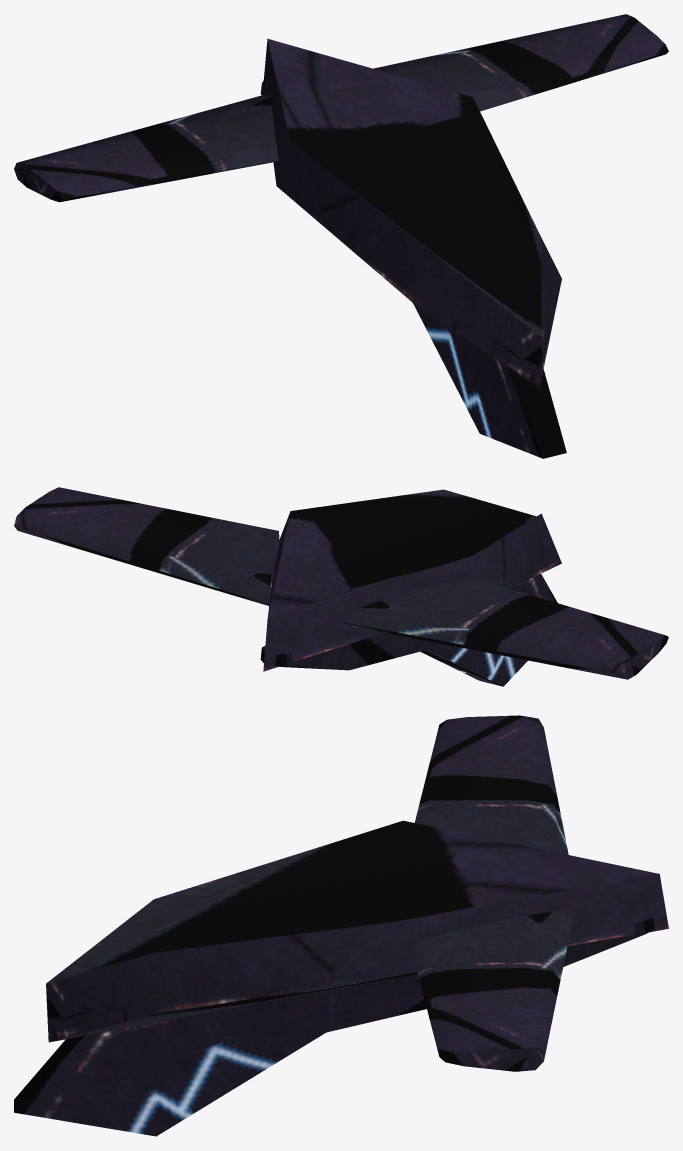
Rendered from Kitving.fbx.
3 views of the same model, one above another, from view 1: azimuth 30°, elevation 25°; view 2: azimuth 150°, elevation 25°; view 3: azimuth 270°, elevation 25° (orthographic). The views are drawn at different scales.
Visible parts, largest first — view 1: Kitving; view 2: Kitving; view 3: Kitving.
Part boxes in pixels (x1,y1,x2,y2): Kitving: (14, 14, 668, 458); Kitving: (14, 487, 668, 686); Kitving: (14, 715, 668, 1136).
Size of the model in its own units: 54.48 by 19.7 by 45.1.
1 material, 1 textured.
